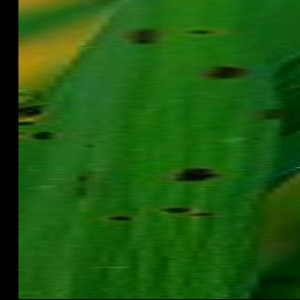Bacterial_Leaf_Blight: (166, 159, 228, 189), (199, 59, 258, 86), (122, 20, 166, 55), (174, 22, 229, 41), (25, 123, 66, 148), (257, 102, 284, 127), (158, 202, 194, 218), (96, 211, 139, 224), (34, 225, 56, 248), (68, 183, 92, 202), (187, 209, 218, 222), (80, 137, 102, 151), (73, 172, 91, 183), (250, 133, 262, 143)
